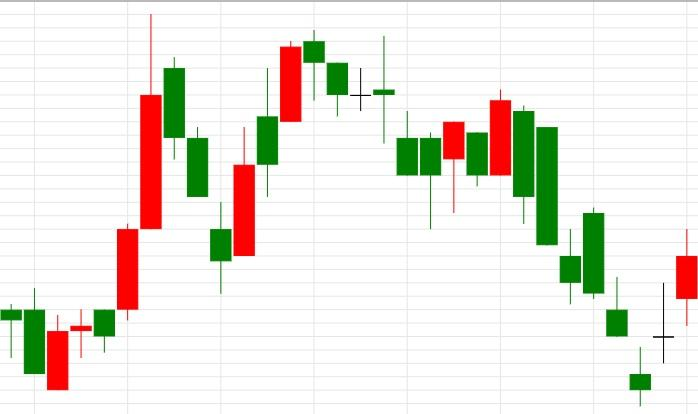three_black_crows_fall: (46, 13, 233, 391)
